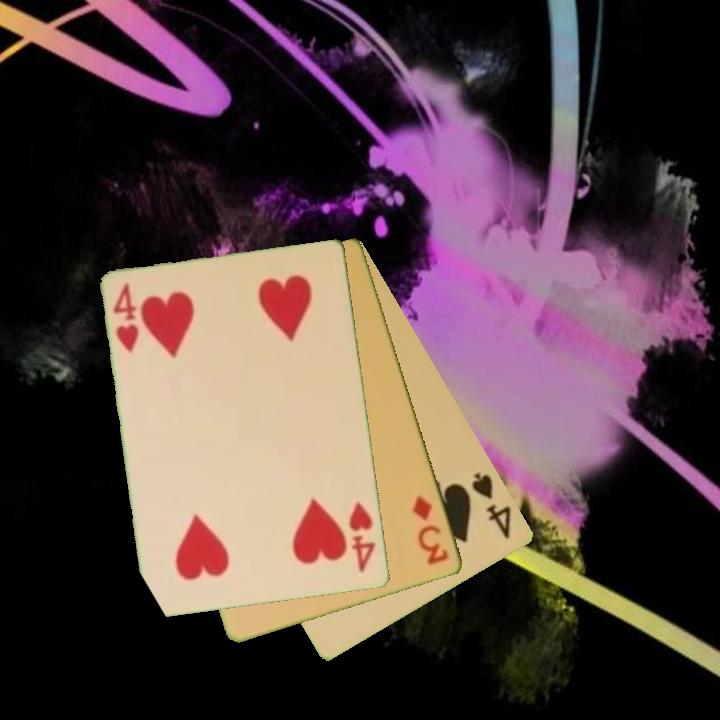3d: (409, 492, 452, 568)
4h: (346, 498, 379, 576), (110, 280, 142, 356)
4s: (468, 468, 515, 542)
